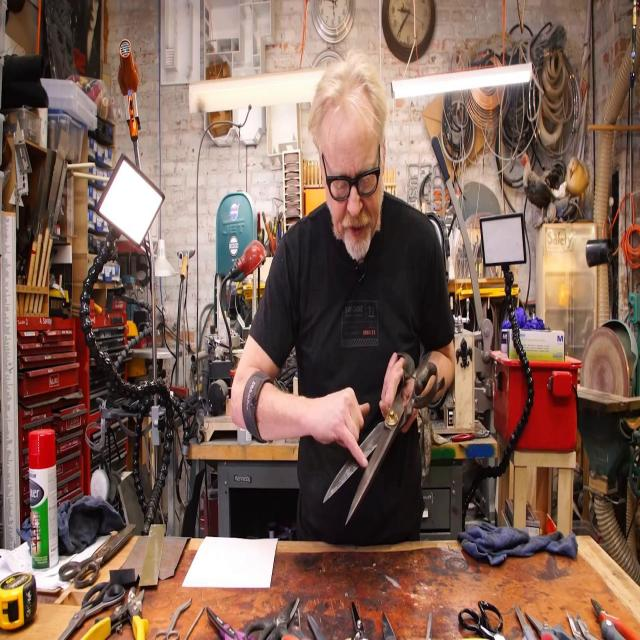scissor: (323, 353, 439, 525), (58, 524, 135, 588), (60, 581, 126, 640), (245, 596, 300, 640), (458, 599, 504, 640), (155, 598, 194, 640), (524, 607, 573, 640)
